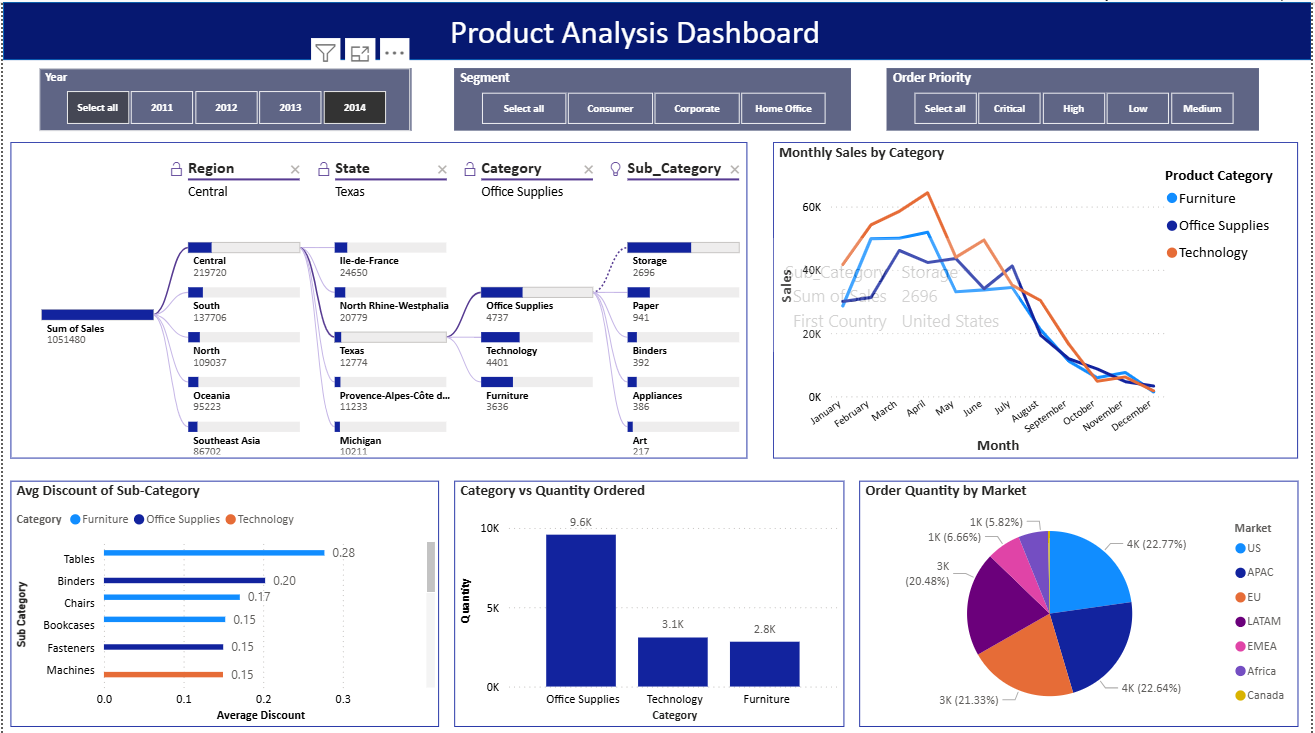

The page's visual inventory and layout, read from the dashboard file:
{"tool":"powerbi","page":{"name":"ProductAnanlysis","canvas":[1280,720],"ordinal":1},"visuals":[{"type":"shape","box":[0,0,1280.2,57],"z":0},{"type":"textbox","title":"Product Analysis Dashboard","box":[372.1,9.3,493,38.4],"z":1000},{"type":"slicer","title":"Year","fields":{"Values":["SuperStoreOrders2.order_date.Variation.Date Hierarchy.Year"]},"box":[34.9,65.1,364,60.5],"z":2000},{"type":"slicer","title":"Segment","fields":{"Values":["SuperStoreOrders2.segment"]},"box":[441.9,65.1,388.4,60.5],"z":3000},{"type":"decompositionTreeVisual","fields":{"ExplainBy":["SuperStoreOrders2.region","SuperStoreOrders2.State","SuperStoreOrders2.category","SuperStoreOrders2.Sub_Category"],"Analyze":["Sum(SuperStoreOrders2.Sales)"]},"box":[7.9,137.5,721.1,309.9],"z":4000},{"type":"clusteredBarChart","title":"Avg Discount of Sub-Category","fields":{"Y":["Avg(SuperStoreOrders2.discount)"],"Category":["SuperStoreOrders2.Sub_Category"],"Series":["SuperStoreOrders2.category"]},"box":[7.9,468.7,419.2,241.1],"z":5000},{"type":"columnChart","title":"Category vs Quantity Ordered","fields":{"Y":["Sum(SuperStoreOrders2.quantity)"],"Category":["SuperStoreOrders2.category"]},"box":[441.7,468.7,382,241.1],"z":6000},{"type":"lineChart","title":"Monthly Sales by Category","fields":{"Y":["Sum(SuperStoreOrders2.sales)"],"Category":["SuperStoreOrders2.order_date.Variation.Date Hierarchy.Month"],"Series":["SuperStoreOrders2.category"]},"box":[752.7,137.5,513.8,309.9],"z":7000},{"type":"pieChart","title":"Order Quantity by Market","fields":{"Category":["SuperStoreOrders2.Market"],"Y":["Sum(SuperStoreOrders2.quantity)"]},"box":[837.2,468.7,429.3,241.1],"z":8000},{"type":"slicer","title":"Order Priority","fields":{"Values":["SuperStoreOrders2.order_priority"]},"box":[865.1,65.1,364,60.5],"z":9000}]}

Visuals, with their boxes in screenshot pixels (x1, y1, x2, y2), scaled from the page's 1280x720 canvas onto the 1315x733 screenshot:
shape: crop(0, 0, 1314, 58)
"Product Analysis Dashboard" textbox: crop(382, 9, 889, 49)
"Year" slicer: crop(36, 66, 410, 128)
"Segment" slicer: crop(454, 66, 853, 128)
decompositionTreeVisual - SuperStoreOrders2.region x SuperStoreOrders2.State: crop(8, 140, 749, 455)
"Avg Discount of Sub-Category" clusteredBarChart: crop(8, 477, 439, 723)
"Category vs Quantity Ordered" columnChart: crop(454, 477, 846, 723)
"Monthly Sales by Category" lineChart: crop(773, 140, 1301, 455)
"Order Quantity by Market" pieChart: crop(860, 477, 1301, 723)
"Order Priority" slicer: crop(889, 66, 1263, 128)
